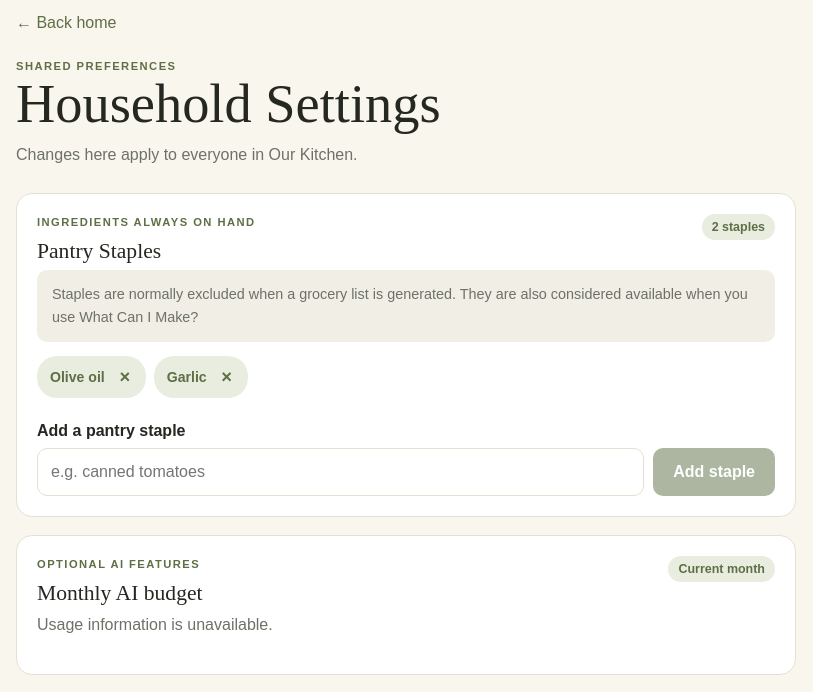
Scenario: Settings pantry staples › adds and removes pantry staples using local state
Type "Rice" into the field labelled "Add a pantry staple" at coordinates (341, 472), box [37,448,644,496]
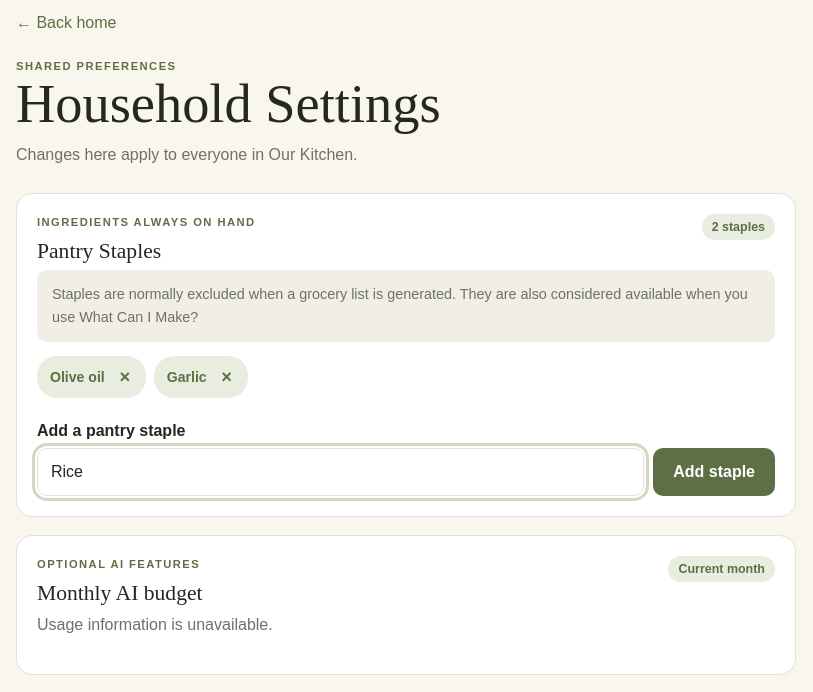
Click the button "Add staple" at coordinates (714, 472), box [653,448,775,496]
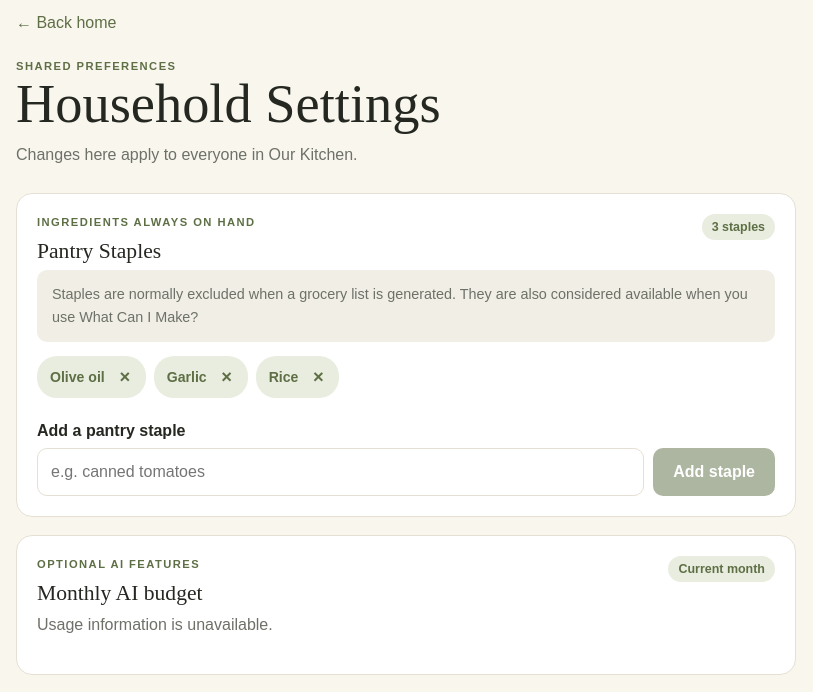
Expected: the text "Rice" is shown, [269,369,298,385]
Click the button named "Remove Garlic" at coordinates (227, 377), box [213,363,241,391]
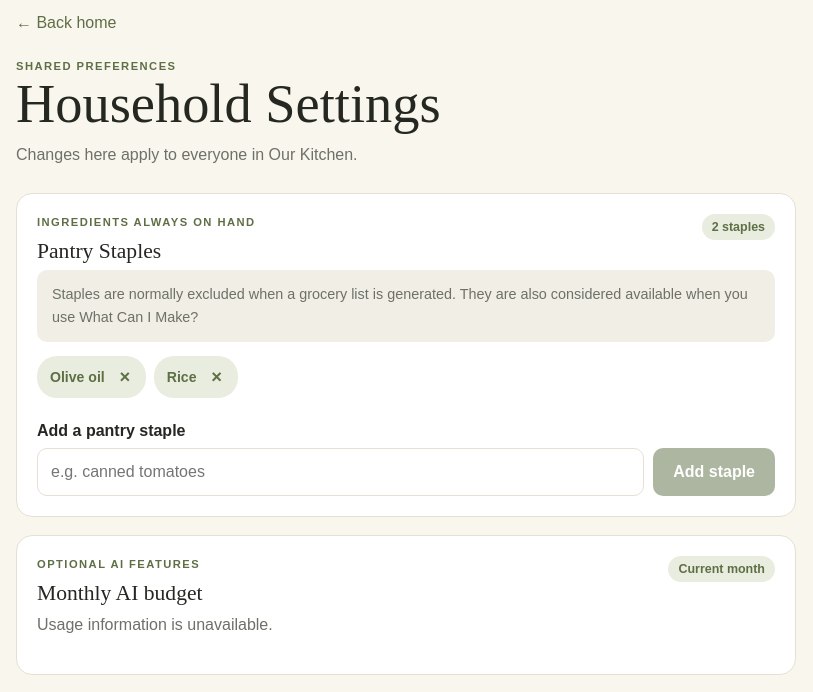
Expected: the text "Garlic" is gone
